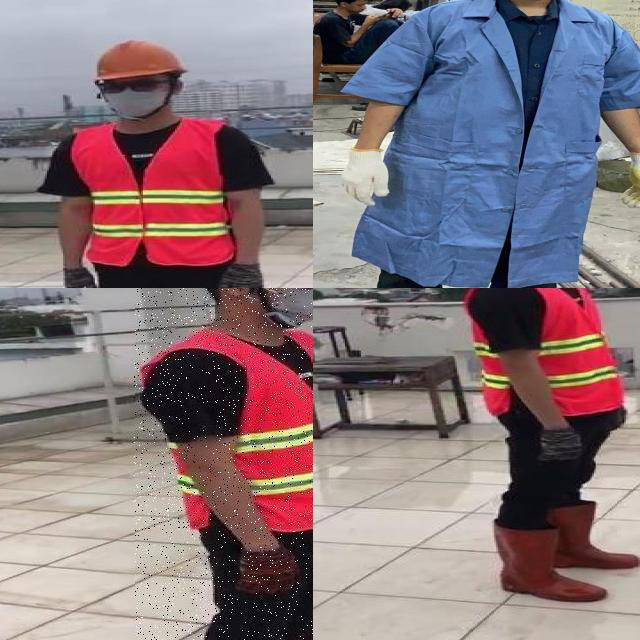No_Ear-Protection: (217, 288, 248, 302)
boots: (484, 518, 606, 606), (544, 501, 640, 570)
face_mask: (94, 75, 169, 118)
face_nomask: (354, 0, 369, 13)
glasses: (95, 76, 163, 96)
hand_glove: (331, 146, 396, 209), (544, 422, 583, 462), (614, 147, 640, 205), (215, 262, 263, 288), (61, 266, 98, 288)
hand_noglove: (363, 13, 384, 24), (386, 7, 404, 18)
head_helmet: (89, 38, 185, 82)
person: (319, 0, 640, 288), (30, 37, 291, 288), (135, 288, 313, 640), (456, 288, 640, 615), (315, 0, 402, 64)
vest: (134, 326, 313, 531), (72, 119, 237, 268), (462, 288, 620, 413)
